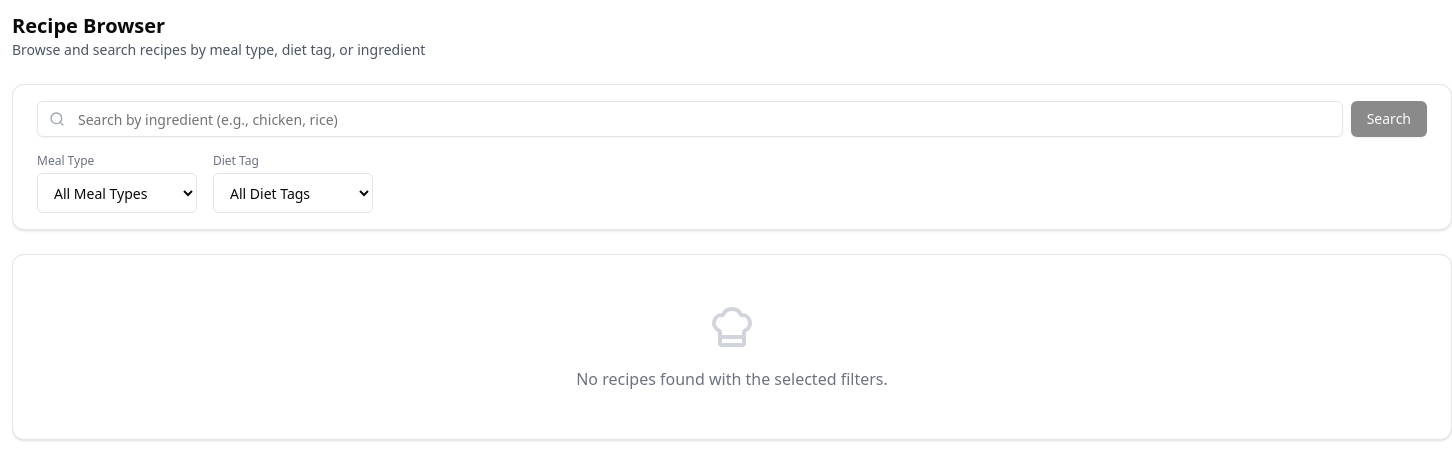
RecipeBrowser › ingredient search › should clear search and return to list when clear button is clicked
Type "chicken" into the field with placeholder "Search by ingredient (e.g., chicken, rice)" at point(690, 119), box [37,101,1343,137]
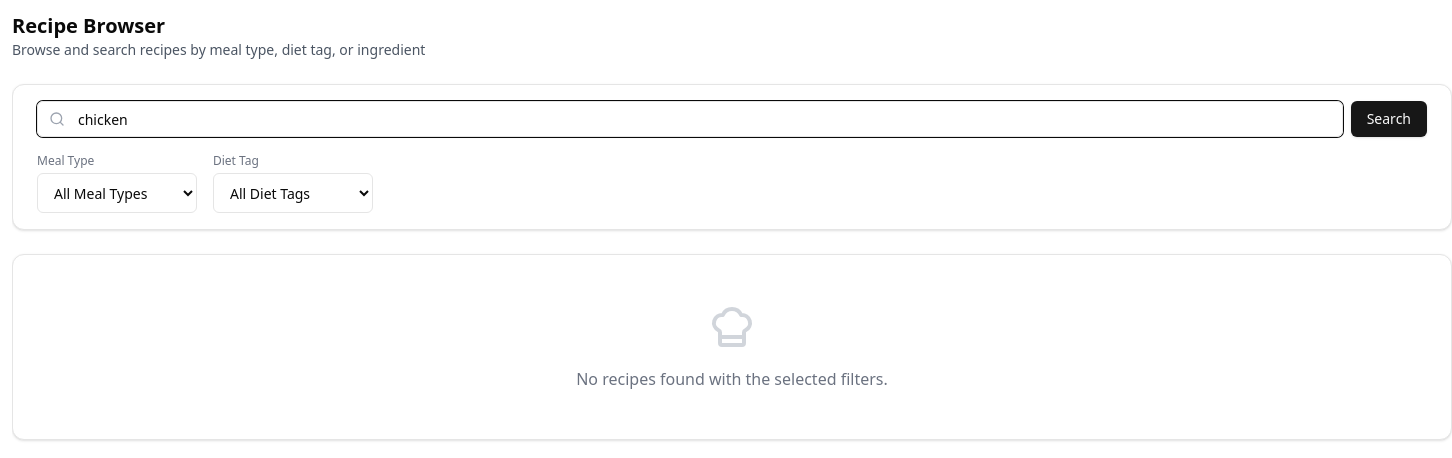
Click the button "Search" at point(1389, 119), box [1351,101,1427,137]
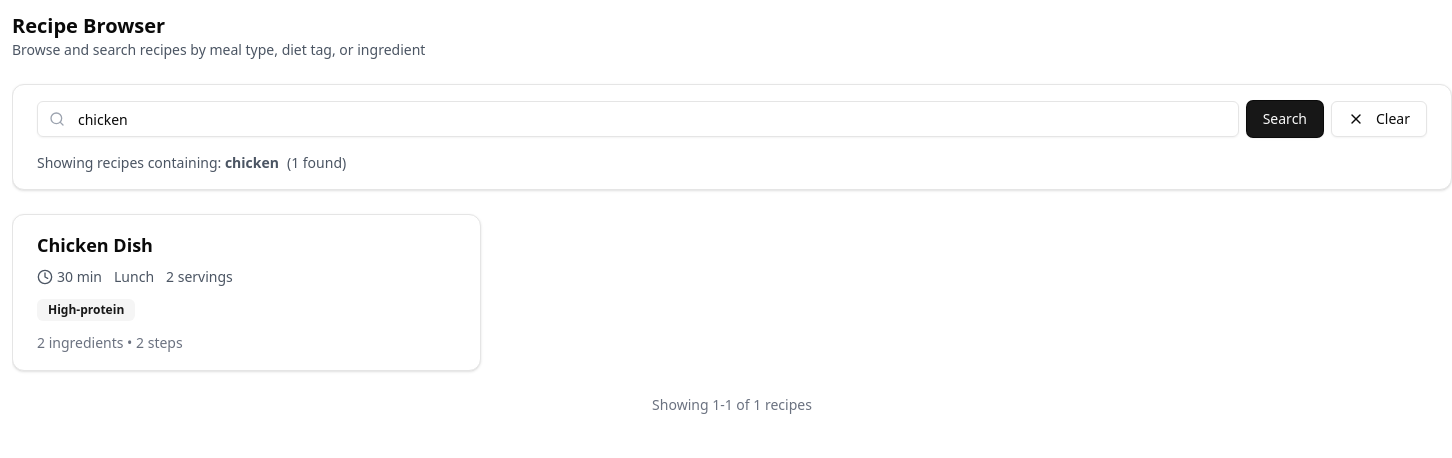
Check: the button "Clear" is shown
Click the button "Clear" at point(1379, 119), box [1331,101,1427,137]
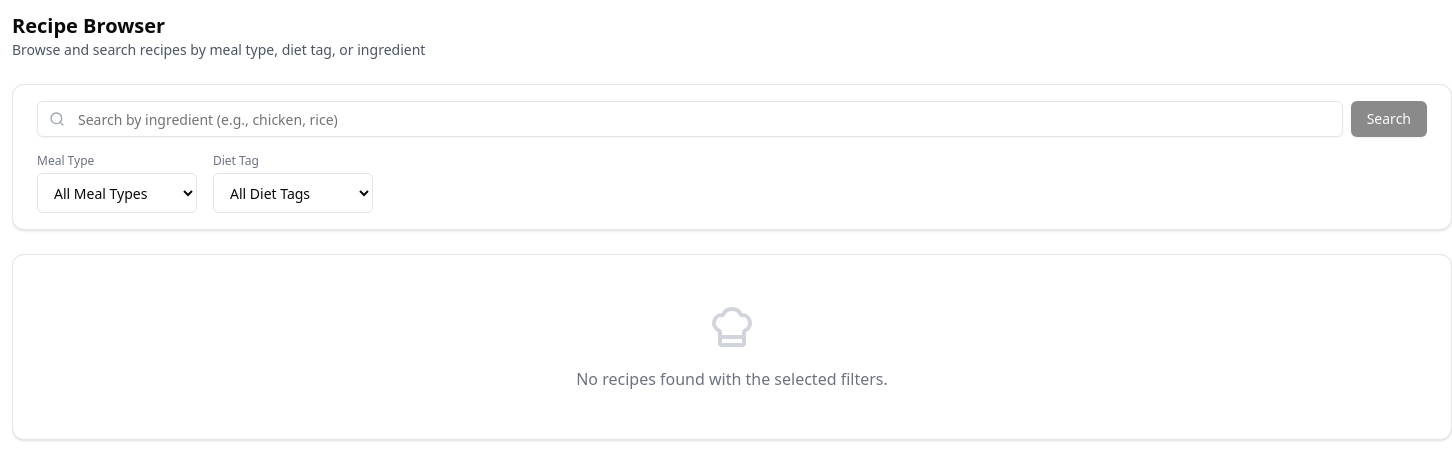
Check: the button "Clear" is gone
